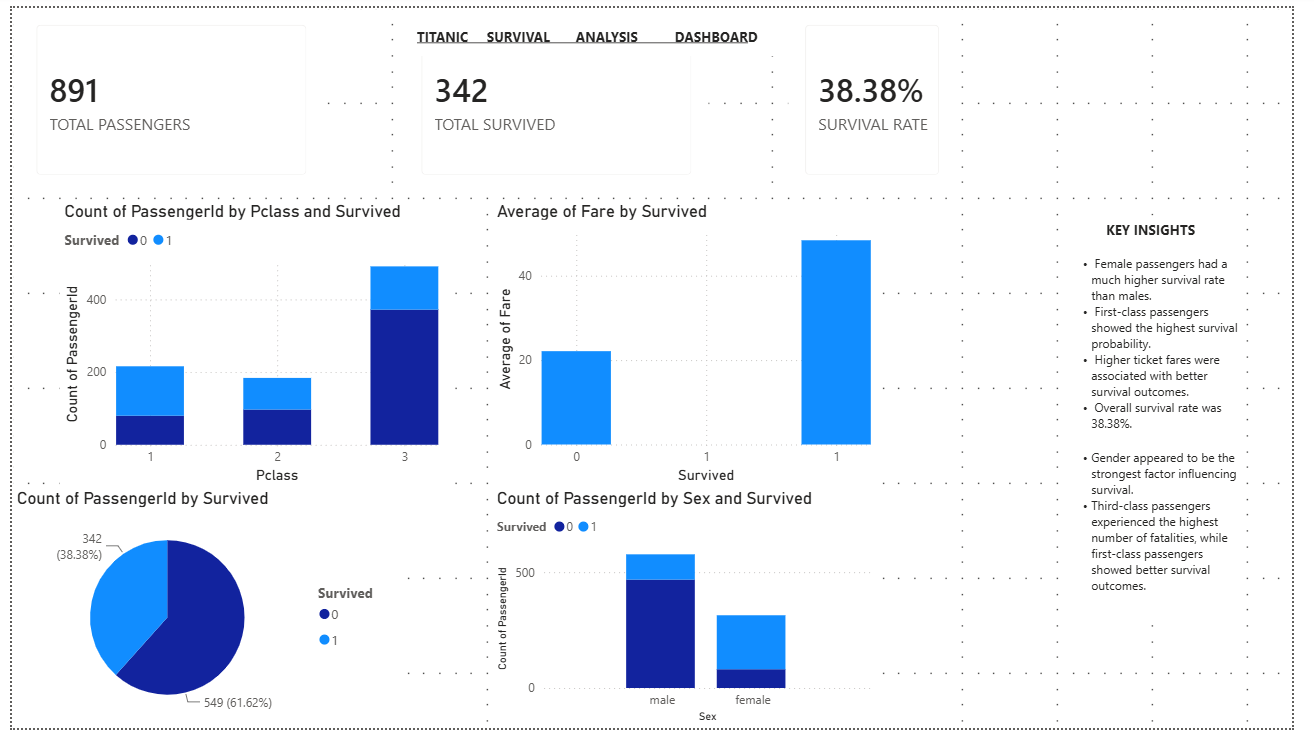

The page's visual inventory and layout, read from the dashboard file:
{"tool":"powerbi","page":{"name":"Page 1","canvas":[1280,720],"ordinal":0},"visuals":[{"type":"pieChart","fields":{"Category":["train.Survived"],"Y":["CountNonNull(train.PassengerId)"]},"box":[0,480,384,240],"z":0},{"type":"columnChart","fields":{"Category":["train.Sex"],"Y":["CountNonNull(train.PassengerId)"],"Series":["train.Survived"]},"box":[480,480,384,240],"z":2000},{"type":"columnChart","fields":{"Category":["train.Pclass"],"Y":["CountNonNull(train.PassengerId)"],"Series":["train.Survived"]},"box":[48,192,384,288],"z":3000},{"type":"clusteredColumnChart","fields":{"Category":["train.Survived"],"Y":["Avg(train.Fare)"]},"box":[480,192,384,288],"z":4000},{"type":"cardVisual","fields":{"Data":["CountNonNull(train.PassengerId)"]},"box":[8,0,304,184],"z":4001},{"type":"cardVisual","fields":{"Data":["Sum(train.Survived)"]},"box":[392,0,304,184],"z":4002},{"type":"cardVisual","fields":{"Data":["train.Survival Rate"]},"box":[776,0,168,184],"z":4003},{"type":"textbox","box":[1056,208,176,400],"z":4004},{"type":"textbox","box":[400,0,384,48],"z":4005}]}

Visuals, with their boxes in screenshot pixels (x1, y1, x2, y2), scaled from the page's 1280x720 canvas onto the 1314x737 screenshot:
pieChart - train.Survived x CountNonNull(train.PassengerId): 0 491 394 736
columnChart - train.Sex x CountNonNull(train.PassengerId): 493 491 887 736
columnChart - train.Pclass x CountNonNull(train.PassengerId): 49 197 443 491
clusteredColumnChart - train.Survived x Avg(train.Fare): 493 197 887 491
cardVisual - CountNonNull(train.PassengerId): 8 0 320 188
cardVisual - Sum(train.Survived): 402 0 714 188
cardVisual - train.Survival Rate: 797 0 969 188
textbox: 1084 213 1265 622
textbox: 411 0 805 49
